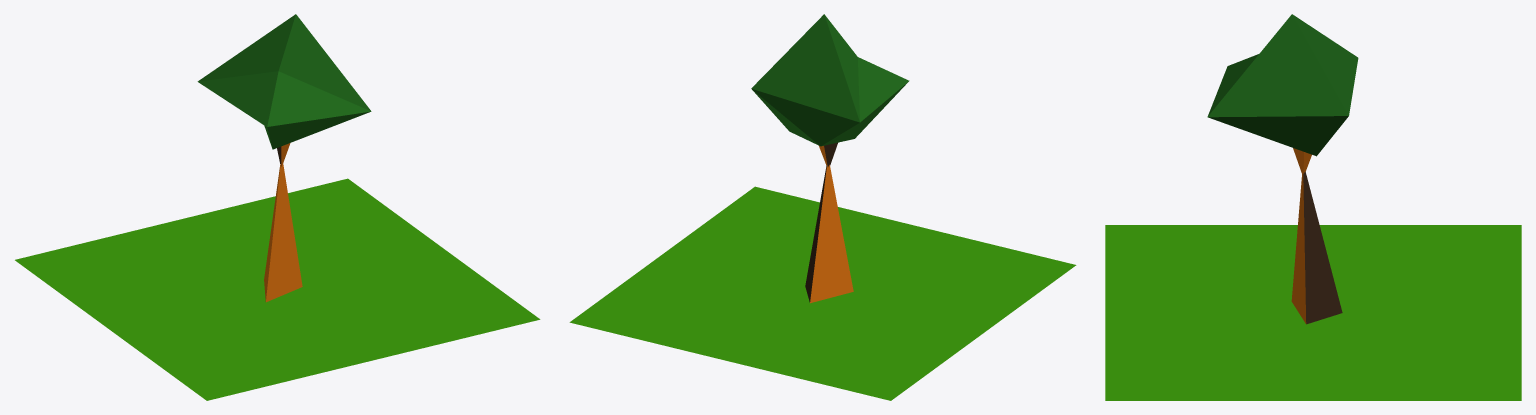
The model's file is single.obj.
3 views of the same model, side by side, from view 1: azimuth 30°, elevation 25°; view 2: azimuth 150°, elevation 25°; view 3: azimuth 270°, elevation 25° (orthographic). The views are drawn at different scales.
Parts seen in each view (by area): view 1: Plane.001, Plane, Plane.002, Cylinder.004; view 2: Plane, Plane.001, Plane.002, Cylinder.004, Cylinder; view 3: Plane, Plane.001, Plane.002, Cylinder, Cylinder.004.
Part boxes in pixels (x1=…): Plane.001: x1=15, y1=260, x2=539, y2=400; Plane: x1=15, y1=178, x2=540, y2=319; Plane.002: x1=197, y1=14, x2=371, y2=149; Cylinder.004: x1=264, y1=163, x2=302, y2=302; Plane: x1=569, y1=187, x2=890, y2=400; Plane.001: x1=755, y1=186, x2=1076, y2=400; Plane.002: x1=751, y1=14, x2=909, y2=146; Cylinder.004: x1=810, y1=165, x2=853, y2=303; Cylinder: x1=805, y1=165, x2=826, y2=302; Plane: x1=1106, y1=225, x2=1521, y2=400; Plane.001: x1=1105, y1=225, x2=1520, y2=400; Plane.002: x1=1207, y1=14, x2=1358, y2=156; Cylinder: x1=1303, y1=171, x2=1342, y2=324; Cylinder.004: x1=1291, y1=173, x2=1306, y2=323.
Size of the model in its own units: 2 by 1.61 by 2.
